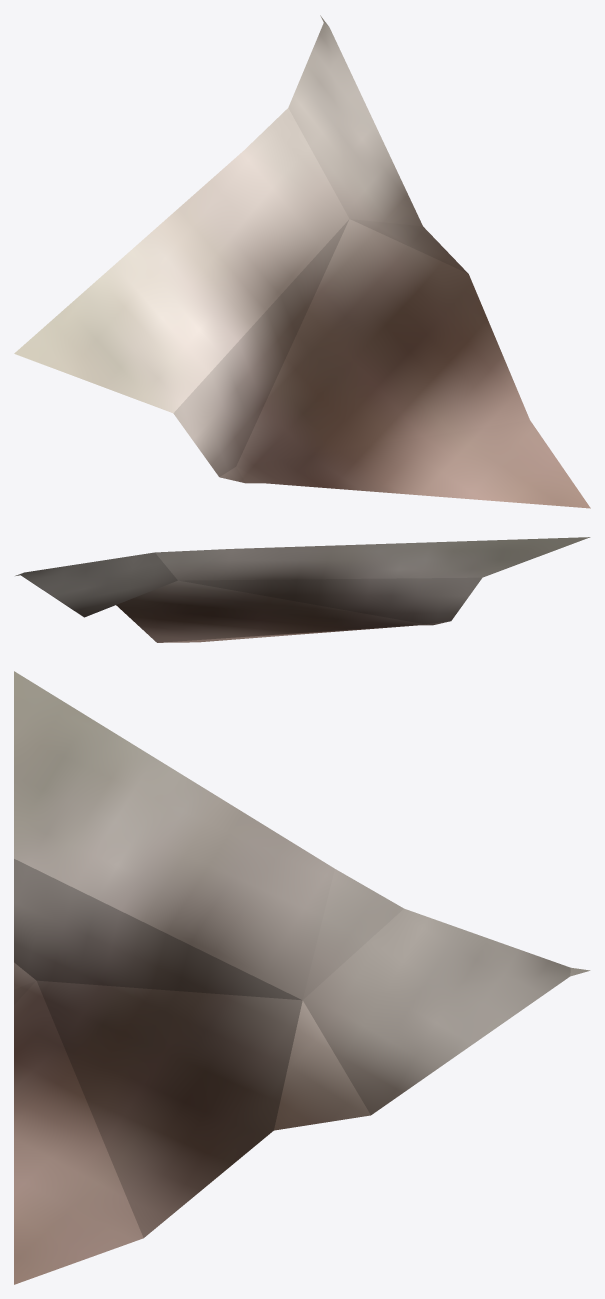
The picture shows the model from 3 angles, top to bottom: view 1: azimuth 30°, elevation 25°; view 2: azimuth 150°, elevation 25°; view 3: azimuth 270°, elevation 25°; orthographic projection. The views are drawn at different scales.
Bounding box in the file's own units: 0.0591 × 0.0289 × 0.0481.
Materials: 1 (1 with a texture image).
